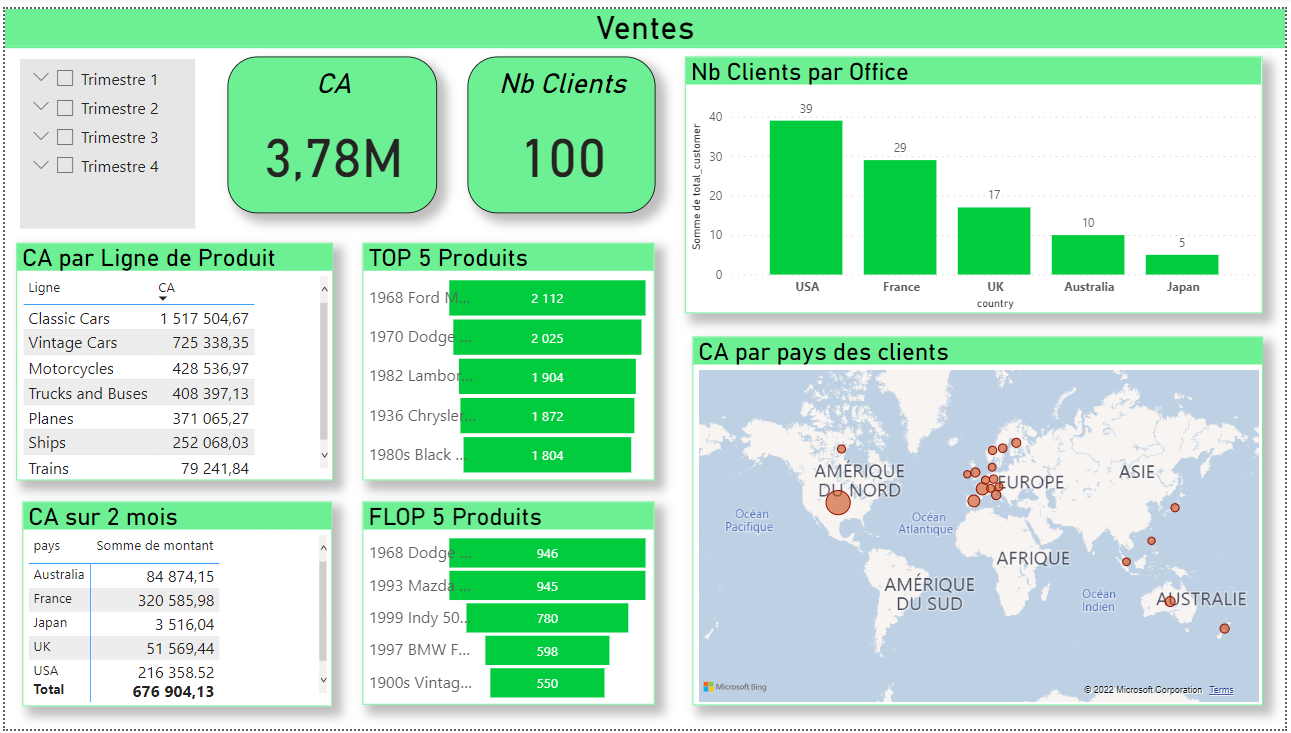

The page's visual inventory and layout, read from the dashboard file:
{"tool":"powerbi","page":{"name":"VENTES","canvas":[1280,720],"ordinal":1},"visuals":[{"type":"card","title":"CA","fields":{"Values":["Sum(Requête1.ca)"]},"box":[222.8,47.9,210,156.5],"z":0},{"type":"tableEx","title":"CA par Ligne de Produit","fields":{"Values":["Requête1.productLine","Sum(Requête1.montant_vendus)"]},"box":[10.6,234.2,317,237.8],"z":1000},{"type":"card","title":"Nb Clients","fields":{"Values":["Sum(Sales - Nb Cust.total_customer)"]},"box":[462.3,47.9,187.9,156.5],"z":2000},{"type":"pivotTable","title":"CA sur 2 mois","fields":{"Rows":["Sales - Ca / 2 mois / Country.pays"],"Values":["Sum(Sales - Ca / 2 mois / Country.montant)"]},"box":[17.5,492.4,309.8,204.6],"z":3000},{"type":"map","title":"CA par pays des clients","fields":{"Size":["Sum(Sales - CA.ca)"],"Category":["Sales - CA.country"]},"box":[687.3,327.7,570.2,369.1],"z":4000},{"type":"clusteredColumnChart","title":"Nb Clients par Office","fields":{"Category":["Sales - Nb Cust.country"],"Y":["Sum(Sales - Nb Cust.total_customer)"]},"box":[680.2,47.3,577.3,256.7],"z":5000},{"type":"funnel","title":"TOP 5 Produits","fields":{"Category":["Requête1.productname"],"Y":["Sum(Requête1.Qté_vendu)"]},"box":[357.3,234.2,292.2,237.8],"z":6000},{"type":"funnel","title":"FLOP 5 Produits","fields":{"Category":["Requête1.productname"],"Y":["Sum(Requête1.Qté_vendu)"]},"box":[357.3,492.1,292.2,203.5],"z":7000},{"type":"shape","title":"Ventes","box":[0,0,1280.2,38.9],"z":8000},{"type":"slicer","fields":{"Values":["HR - Table mois.Trimestre","HR - Table mois.mois"]},"box":[14.7,49.7,175,169.4],"z":9000}]}

Visuals, with their boxes in screenshot pixels (x1, y1, x2, y2), scaled from the page's 1280x720 canvas onto the 1291x733 screenshot:
"CA" card: <box>225,49,437,208</box>
"CA par Ligne de Produit" tableEx: <box>11,238,330,481</box>
"Nb Clients" card: <box>466,49,656,208</box>
"CA sur 2 mois" pivotTable: <box>18,501,330,710</box>
"CA par pays des clients" map: <box>693,334,1268,709</box>
"Nb Clients par Office" clusteredColumnChart: <box>686,48,1268,309</box>
"TOP 5 Produits" funnel: <box>360,238,655,481</box>
"FLOP 5 Produits" funnel: <box>360,501,655,708</box>
"Ventes" shape: <box>0,0,1290,40</box>
slicer - HR - Table mois.Trimestre x HR - Table mois.mois: <box>15,51,191,223</box>
